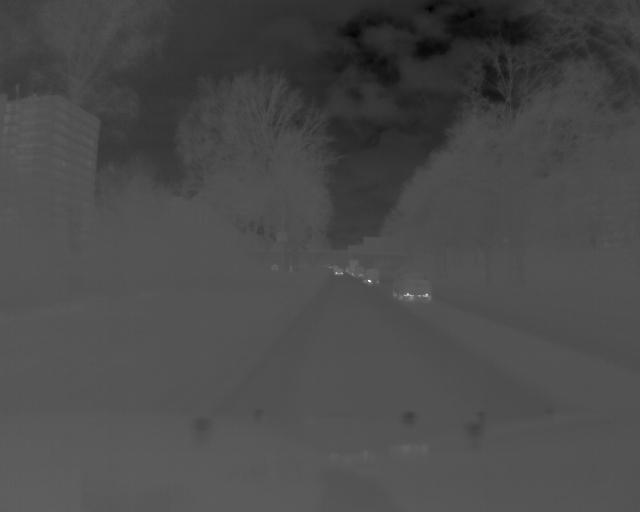car: (390, 270, 435, 301), (362, 268, 381, 286), (333, 263, 346, 277)
